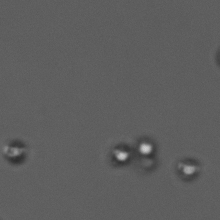Living Cell: (175, 159, 201, 182), (108, 144, 135, 165), (2, 140, 25, 164), (134, 136, 156, 158)
